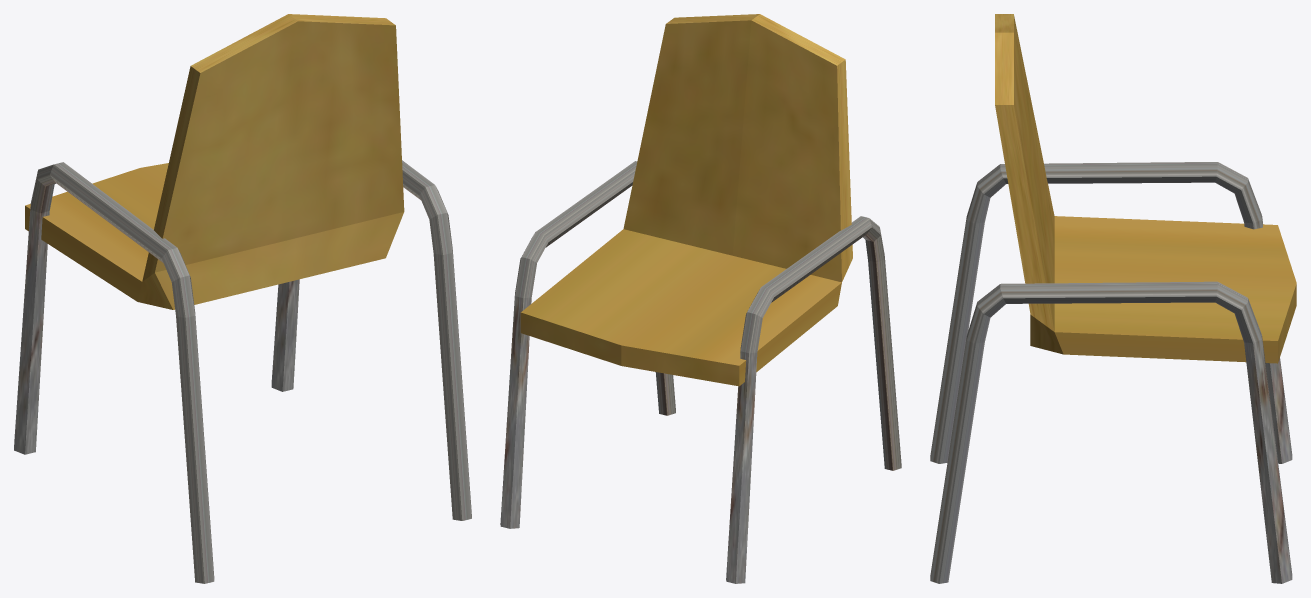
The model's file is ChairYellow.fbx.
3 renders of one model, left to right at view 1: azimuth 30°, elevation 25°; view 2: azimuth 150°, elevation 25°; view 3: azimuth 270°, elevation 25°, orthographic. The views are drawn at different scales.
Parts seen in each view (by area): view 1: ChairYellow; view 2: ChairYellow; view 3: ChairYellow.
Part boxes in pixels (x1,y1,x2,y2): ChairYellow: (14,14,471,583); ChairYellow: (500,14,901,583); ChairYellow: (930,14,1296,583).
Bounding box in the file's own units: 72.02 × 60.46 × 105.
